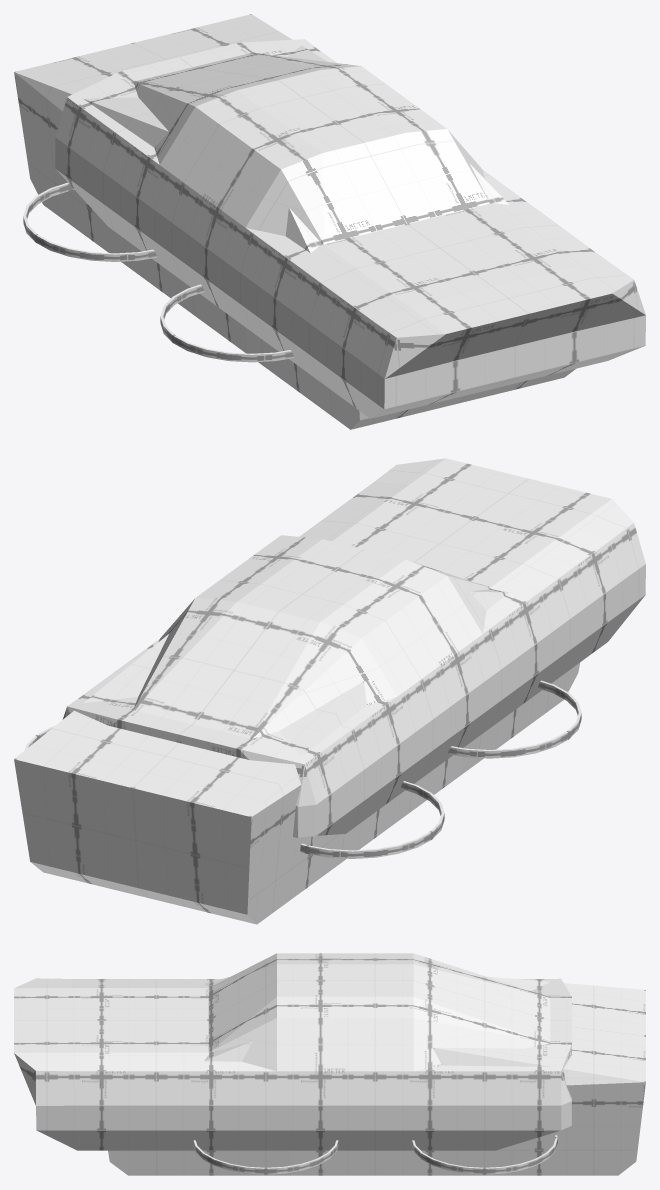
The model's file is vehicles.glb.
3 renders of one model, top to bottom at view 1: azimuth 30°, elevation 25°; view 2: azimuth 150°, elevation 25°; view 3: azimuth 270°, elevation 25°, orthographic. The views are drawn at different scales.
Parts seen in each view (by area): view 1: VehicleBody4, VehicleBody1, VehicleBody3; view 2: VehicleBody4, VehicleBody1, VehicleBody3; view 3: VehicleBody4, VehicleBody1, VehicleBody3.
Part boxes in pixels (bbox=[...]): VehicleBody4: bbox=[55, 39, 645, 418]; VehicleBody1: bbox=[14, 14, 575, 429]; VehicleBody3: bbox=[23, 182, 294, 362]; VehicleBody4: bbox=[62, 458, 645, 837]; VehicleBody1: bbox=[14, 589, 580, 924]; VehicleBody3: bbox=[24, 680, 581, 858]; VehicleBody4: bbox=[14, 953, 571, 1150]; VehicleBody1: bbox=[108, 976, 645, 1175]; VehicleBody3: bbox=[193, 1135, 557, 1174].
Bounding box in the file's own units: 3.34 × 1.55 × 5.78.
1 material, 1 textured.
